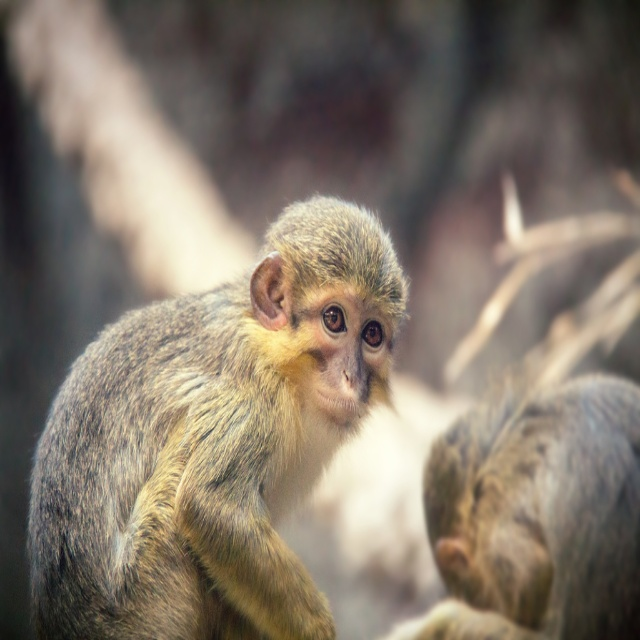Monkey: (26, 193, 419, 640), (381, 373, 640, 640)
